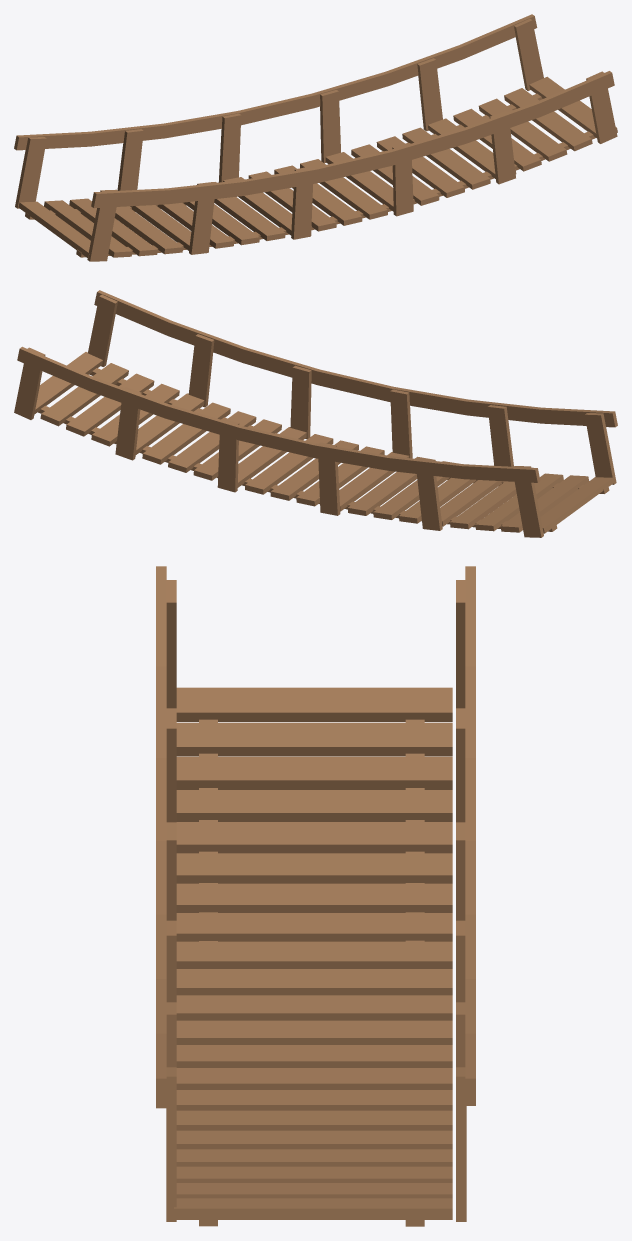
The model's file is bridgeC.glb.
The picture shows the model from 3 angles, top to bottom: view 1: azimuth 30°, elevation 25°; view 2: azimuth 150°, elevation 25°; view 3: azimuth 270°, elevation 25°; orthographic projection. The views are drawn at different scales.
Parts seen in each view (by area): view 1: Cube.001, Cube.002, Cube.004, Cube.003, Cube.005; view 2: Cube.001, Cube.002, Cube.003, Cube.004, Cube.006; view 3: Cube.001, Cube.002, Cube.004, Cube.003.
Part boxes in pixels (bbox=[...]): Cube.001: bbox=[18, 76, 617, 258]; Cube.002: bbox=[15, 18, 617, 261]; Cube.004: bbox=[91, 71, 614, 208]; Cube.003: bbox=[14, 14, 537, 150]; Cube.005: bbox=[76, 131, 595, 257]; Cube.001: bbox=[34, 352, 614, 533]; Cube.002: bbox=[14, 294, 616, 537]; Cube.003: bbox=[17, 346, 540, 482]; Cube.004: bbox=[94, 290, 617, 427]; Cube.006: bbox=[38, 405, 557, 531]; Cube.001: bbox=[174, 687, 452, 1219]; Cube.002: bbox=[166, 580, 466, 1221]; Cube.004: bbox=[156, 566, 166, 1108]; Cube.003: bbox=[465, 566, 475, 1105].
Size of what is drawn, in the model's own units: 11.31 by 2.03 by 2.95.
